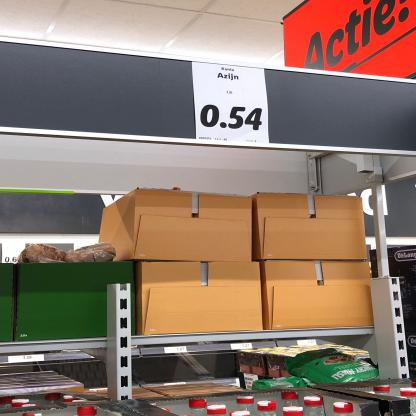prtg: (193, 62, 271, 144)
